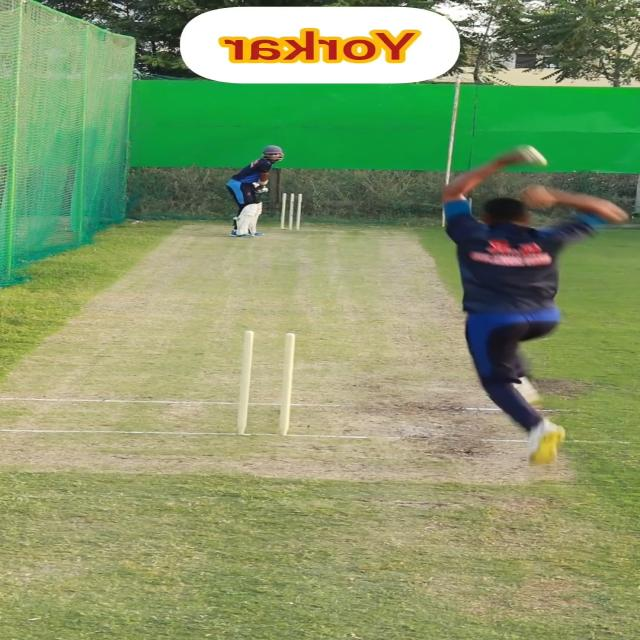stump: (233, 330, 297, 436), (279, 193, 304, 231)
